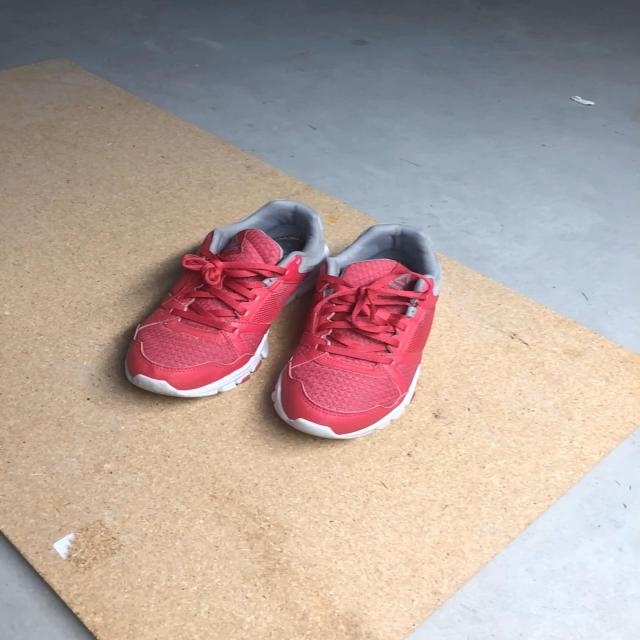shoe: (124, 201, 328, 401), (277, 225, 438, 437)
